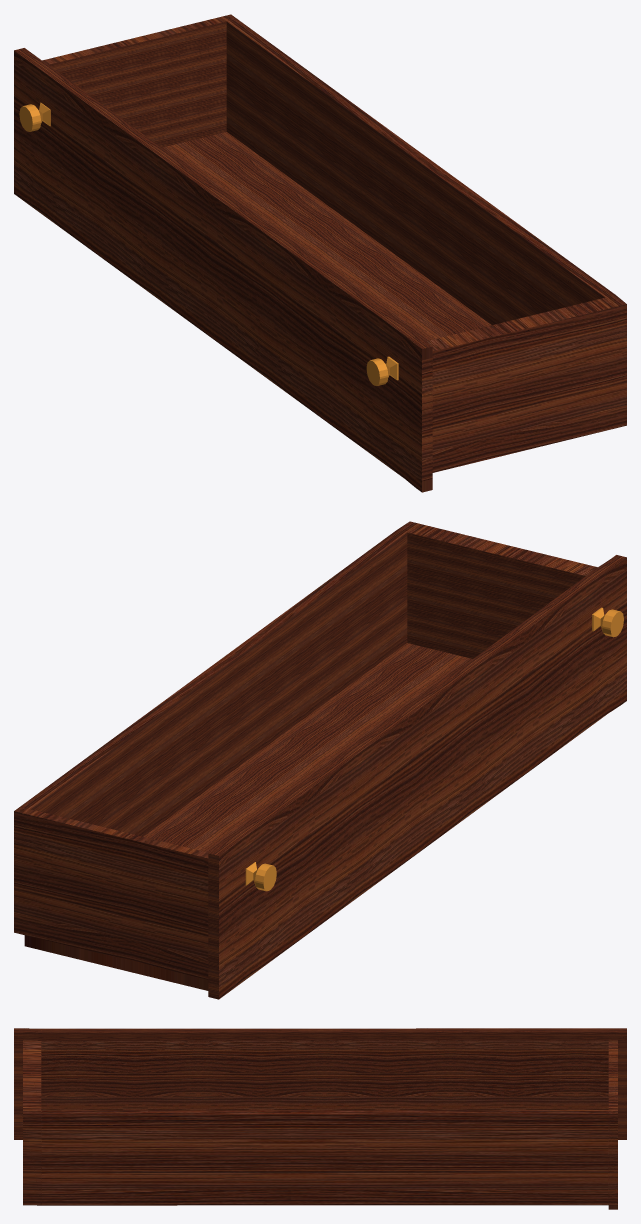
The model's file is 2. Gaveteiro Gaveta maior.fbx.
The picture shows the model from 3 angles, top to bottom: view 1: azimuth 30°, elevation 25°; view 2: azimuth 150°, elevation 25°; view 3: azimuth 270°, elevation 25°; orthographic projection. The views are drawn at different scales.
Parts seen in each view (by area): view 1: Cube.022; view 2: Cube.022; view 3: Cube.022.
Boxes of the visible parts, <box> form: Cube.022: <box>14,14,626,492</box>; Cube.022: <box>14,521,626,999</box>; Cube.022: <box>14,1028,626,1209</box>.
Size of the model in its own units: 220 by 130 by 670.
